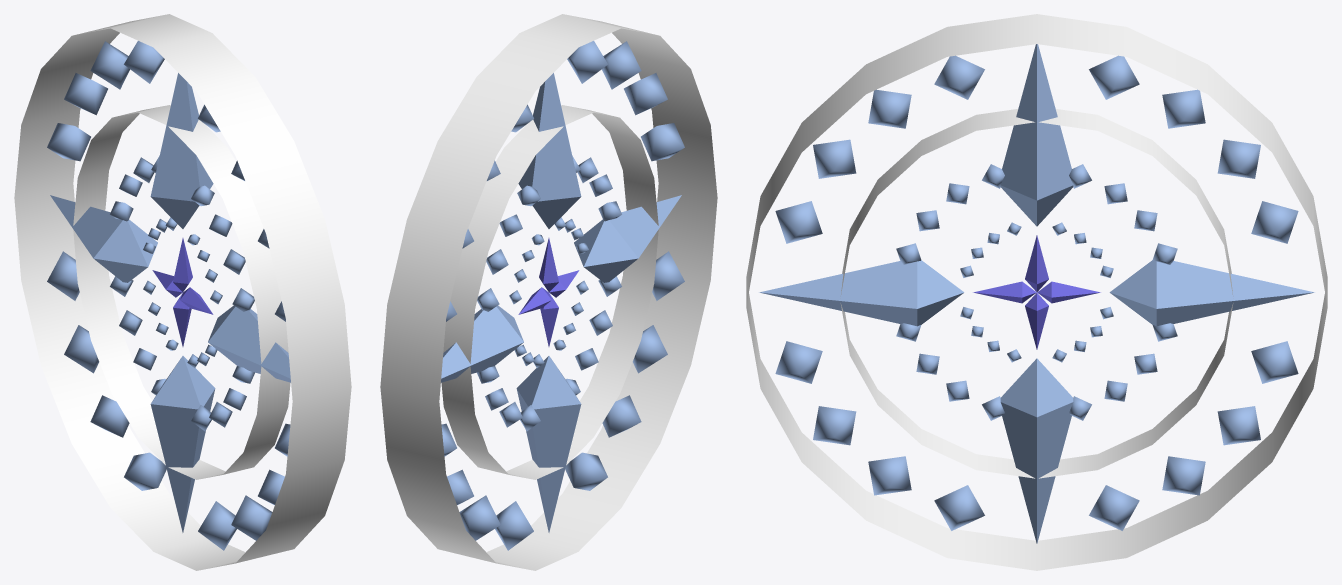
Rendered from MagicWall_Model.fbx.
The picture shows the model from 3 angles, left to right: view 1: azimuth 30°, elevation 25°; view 2: azimuth 150°, elevation 25°; view 3: azimuth 270°, elevation 25°; orthographic projection. The views are drawn at different scales.
Visible parts, largest first — view 1: Ring, RingS, Big, pSolid3, pSolid2, Center, pSolid1; view 2: Ring, RingS, Big, pSolid3, pSolid2, Center, pSolid1; view 3: Ring, Big, pSolid3, RingS, pSolid2, Center, pSolid1.
Boxes of the visible parts, bbox=[...] form: Ring: bbox=[14, 14, 351, 570]; RingS: bbox=[73, 105, 290, 479]; Big: bbox=[50, 73, 290, 532]; pSolid3: bbox=[47, 41, 290, 550]; pSolid2: bbox=[110, 156, 254, 431]; Center: bbox=[152, 238, 213, 346]; pSolid1: bbox=[143, 217, 222, 367]; Ring: bbox=[380, 14, 717, 570]; RingS: bbox=[441, 105, 658, 479]; Big: bbox=[441, 73, 681, 532]; pSolid3: bbox=[441, 41, 684, 550]; pSolid2: bbox=[477, 156, 621, 431]; Center: bbox=[518, 238, 579, 346]; pSolid1: bbox=[509, 217, 588, 367]; Ring: bbox=[746, 14, 1327, 570]; Big: bbox=[759, 44, 1314, 543]; pSolid3: bbox=[775, 55, 1298, 530]; RingS: bbox=[840, 109, 1233, 478]; pSolid2: bbox=[896, 164, 1177, 420]; Center: bbox=[973, 235, 1100, 349]; pSolid1: bbox=[960, 222, 1113, 362].
Size of the model in its own units: 74.37 by 553 by 553.
